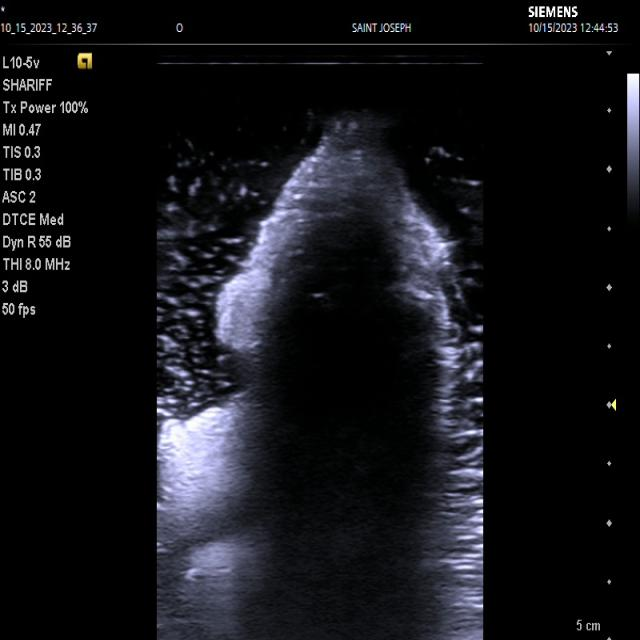tissue: (158, 119, 454, 640)
